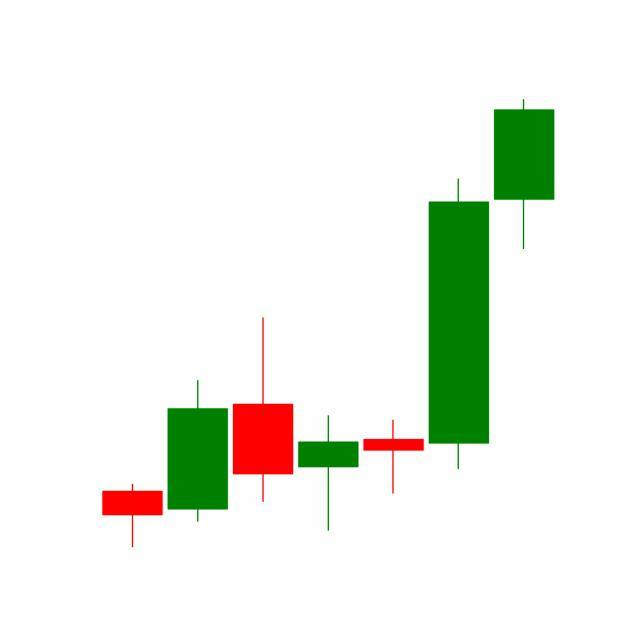Hikkake Pattern: (165, 175, 492, 536)
